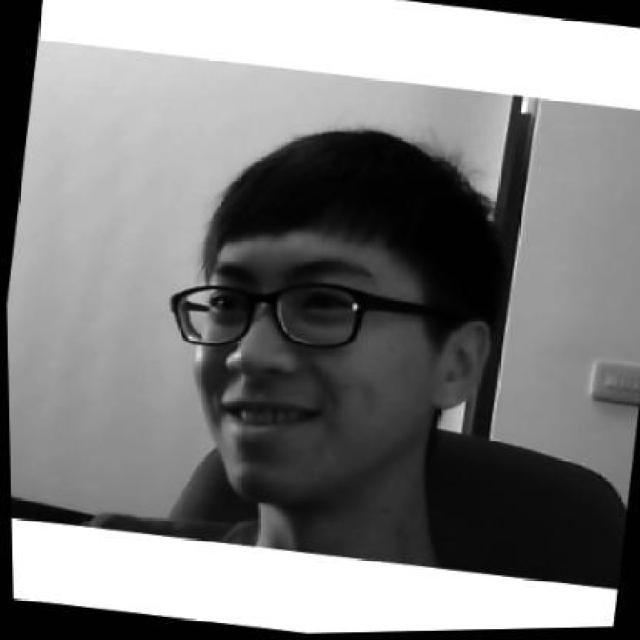attentif: (140, 104, 517, 530)
